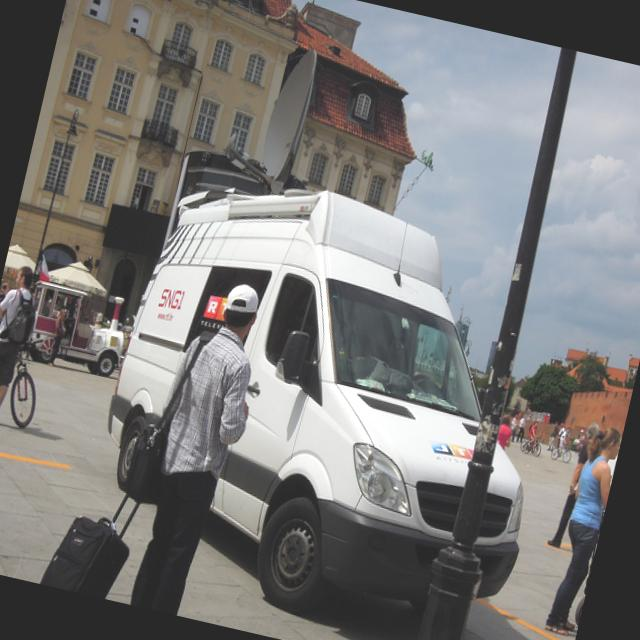Vehicle: (69, 150, 587, 640)
